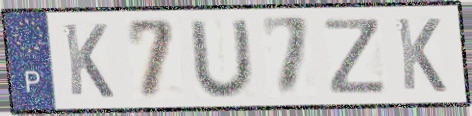7: (125, 16, 182, 102), (258, 14, 313, 100)
K: (60, 21, 117, 101), (393, 15, 449, 95)
U: (186, 16, 258, 100)
Z: (321, 17, 389, 97)
